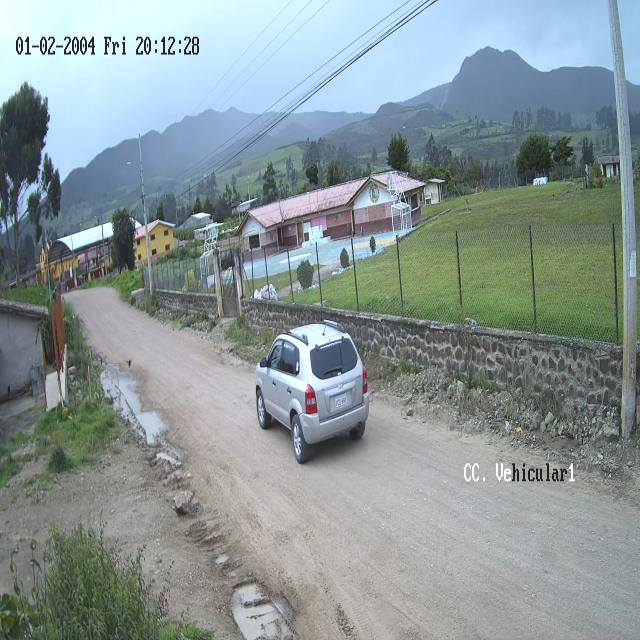SUV: (255, 325, 371, 465)
